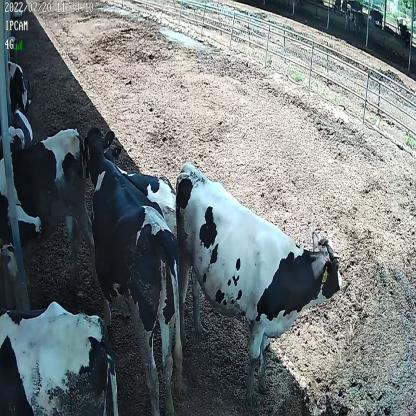cow: (172, 155, 343, 399), (74, 122, 185, 413)
